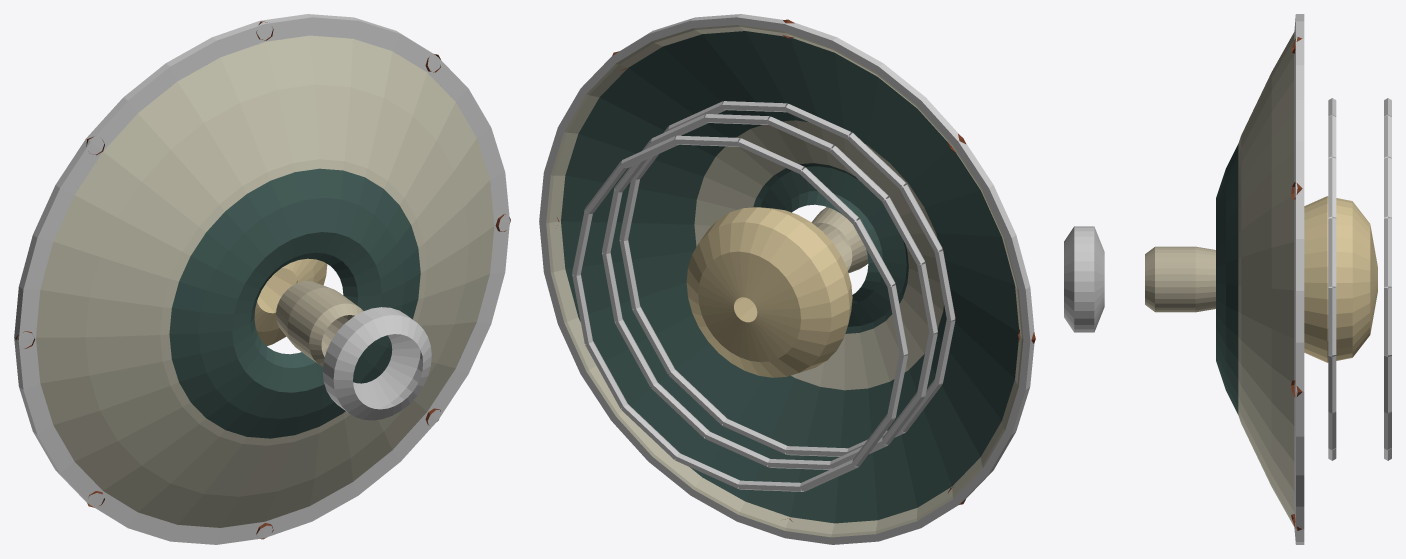
Rendered from StairwellCageLamp.obj.
The picture shows the model from 3 angles, left to right: view 1: azimuth 30°, elevation 25°; view 2: azimuth 150°, elevation 25°; view 3: azimuth 270°, elevation 25°; orthographic projection. The views are drawn at different scales.
Size of the model in its own units: 1.06 by 1.06 by 0.6478.
